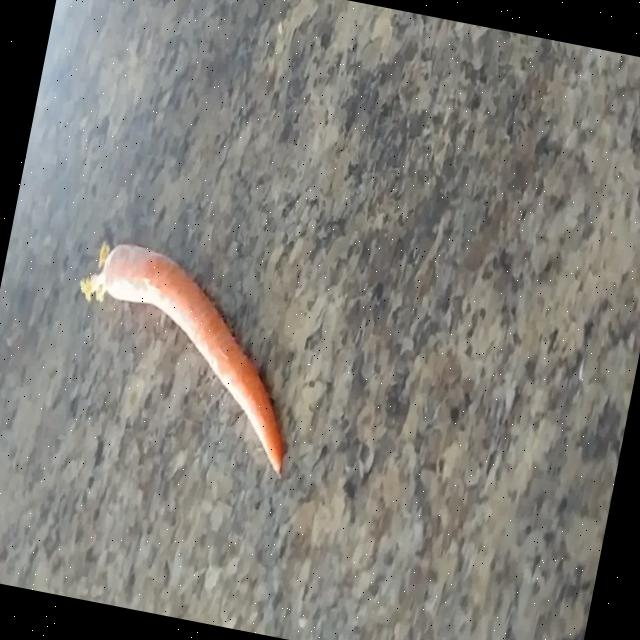carrot: (82, 243, 285, 472)
